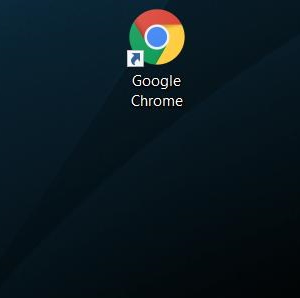chrome: (126, 8, 185, 67)
